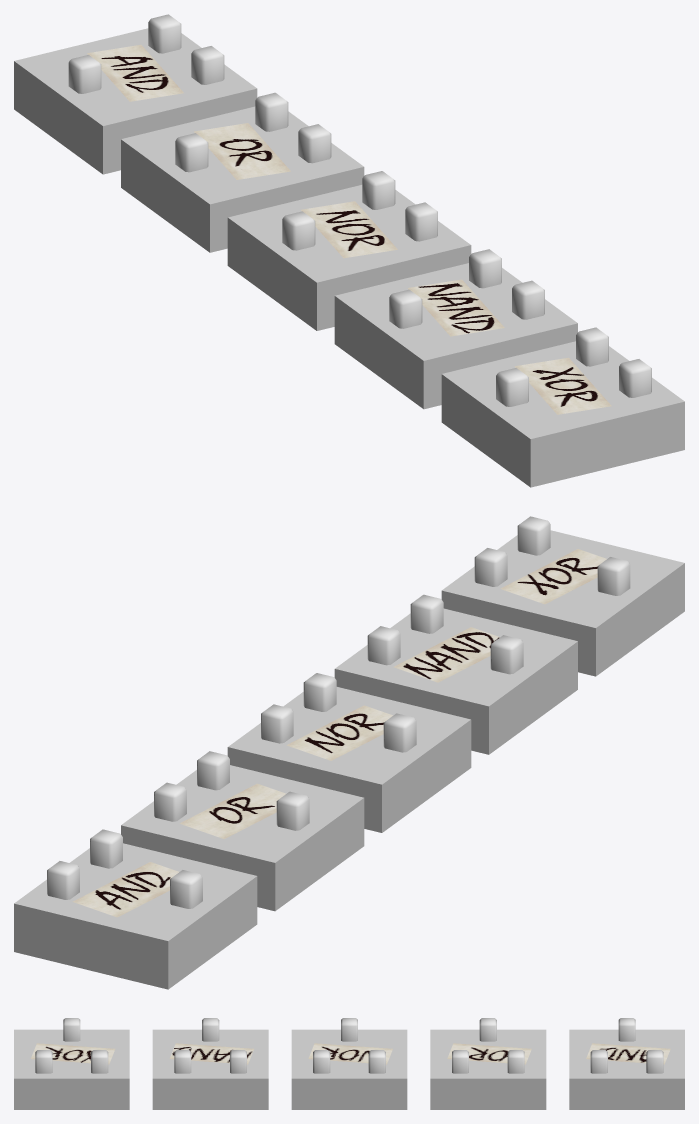
File: Gates.fbx
3 views of the same model, one above another, from view 1: azimuth 30°, elevation 25°; view 2: azimuth 150°, elevation 25°; view 3: azimuth 270°, elevation 25° (orthographic). The views are drawn at different scales.
Parts seen in each view (by area): view 1: XOR_Gate, NOR_Gate, NAND_Gate, AND_Gate, OR_Gate, OR_Gate_Output, NOR_Gate_Output, NAND_Gate_Output, AND_Gate_Output, XOR_Gate_Output; view 2: AND_Gate, NOR_Gate, OR_Gate, XOR_Gate, NAND_Gate, OR_Gate_Output, NOR_Gate_Output, NAND_Gate_Output, XOR_Gate_Output, AND_Gate_Output; view 3: OR_Gate, NAND_Gate, NOR_Gate, XOR_Gate, AND_Gate, XOR_Gate_Output, AND_Gate_Output, OR_Gate_Output, NAND_Gate_Output, NOR_Gate_Output.
Part boxes in pixels (left/top/right/bottom): XOR_Gate: left=441, top=327, right=684, bottom=487; NOR_Gate: left=227, top=171, right=471, bottom=330; NAND_Gate: left=334, top=249, right=577, bottom=409; AND_Gate: left=14, top=14, right=257, bottom=174; OR_Gate: left=121, top=92, right=364, bottom=252; OR_Gate_Output: left=175, top=133, right=208, bottom=172; NOR_Gate_Output: left=282, top=211, right=315, bottom=250; NAND_Gate_Output: left=389, top=289, right=422, bottom=328; AND_Gate_Output: left=68, top=55, right=101, bottom=93; XOR_Gate_Output: left=496, top=368, right=528, bottom=406; AND_Gate: left=14, top=829, right=257, bottom=989; NOR_Gate: left=227, top=673, right=471, bottom=832; OR_Gate: left=121, top=751, right=364, bottom=911; XOR_Gate: left=441, top=516, right=684, bottom=676; NAND_Gate: left=334, top=594, right=577, bottom=754; OR_Gate_Output: left=276, top=791, right=309, bottom=830; NOR_Gate_Output: left=383, top=713, right=416, bottom=752; NAND_Gate_Output: left=490, top=635, right=523, bottom=674; XOR_Gate_Output: left=597, top=557, right=630, bottom=595; AND_Gate_Output: left=170, top=870, right=202, bottom=908; OR_Gate: left=430, top=1029, right=546, bottom=1109; NAND_Gate: left=152, top=1029, right=268, bottom=1109; NOR_Gate: left=291, top=1029, right=407, bottom=1109; XOR_Gate: left=14, top=1029, right=129, bottom=1109; AND_Gate: left=569, top=1029, right=684, bottom=1109; XOR_Gate_Output: left=63, top=1018, right=80, bottom=1041; AND_Gate_Output: left=618, top=1018, right=635, bottom=1041; OR_Gate_Output: left=479, top=1018, right=496, bottom=1041; NAND_Gate_Output: left=202, top=1018, right=219, bottom=1041; NOR_Gate_Output: left=341, top=1018, right=357, bottom=1041.
Size of the model in its own units: 145 by 67.52 by 842.
